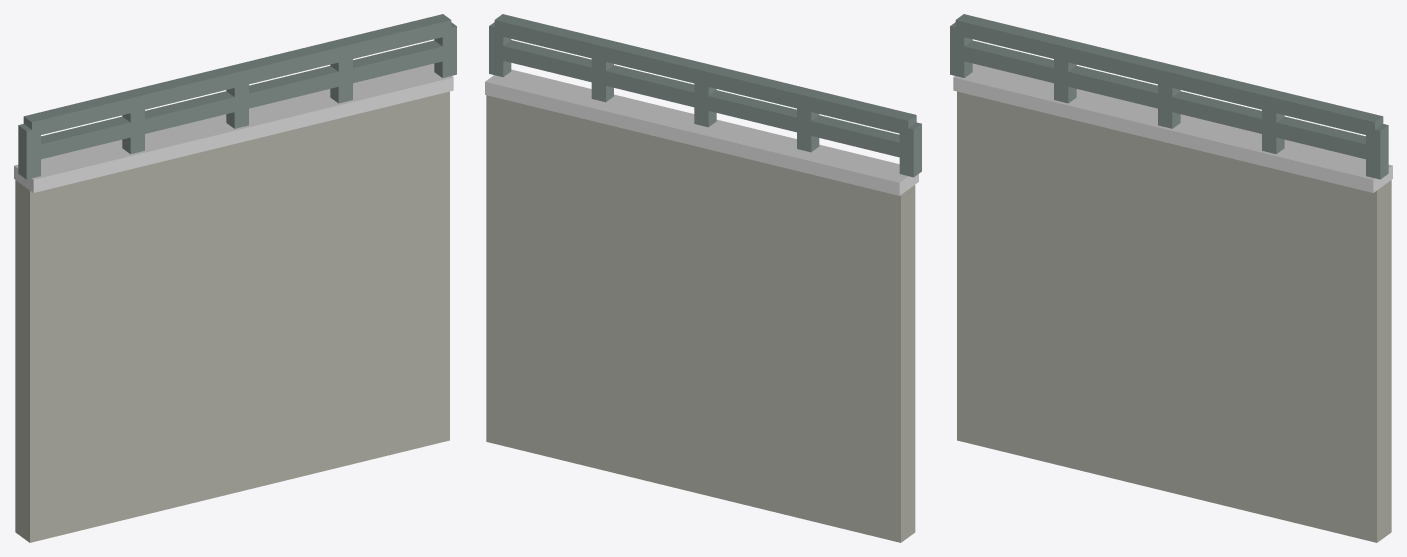
File: SM_MuroTrinchera_Muro_v0_Liso_LOD1.fbx
The picture shows the model from 3 angles, left to right: view 1: azimuth 30°, elevation 25°; view 2: azimuth 150°, elevation 25°; view 3: azimuth 330°, elevation 25°; orthographic projection.
Visible parts, largest first — view 1: SM_muro_trinchera_v0_LOD1; view 2: SM_muro_trinchera_v0_LOD1; view 3: SM_muro_trinchera_v0_LOD1.
Boxes of the visible parts, box(x1,y1,x2,y2) form: SM_muro_trinchera_v0_LOD1: box(14, 14, 456, 542); SM_muro_trinchera_v0_LOD1: box(485, 14, 921, 542); SM_muro_trinchera_v0_LOD1: box(950, 14, 1392, 542).
Bounding box in the file's own units: 10.22 × 9.57 × 0.8.
